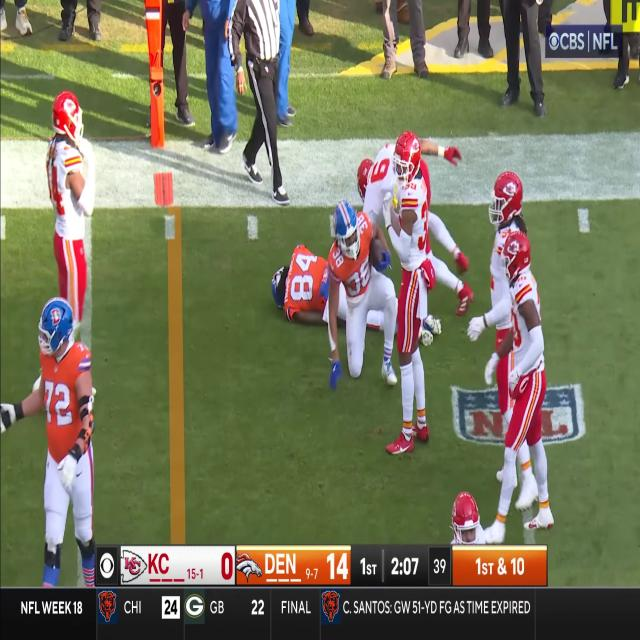Player: (498, 230, 556, 546), (33, 298, 95, 588), (386, 128, 431, 458), (329, 198, 398, 391), (47, 92, 93, 304), (481, 171, 524, 391), (271, 247, 341, 324), (350, 146, 410, 210)
Referee: (227, 0, 297, 208)
